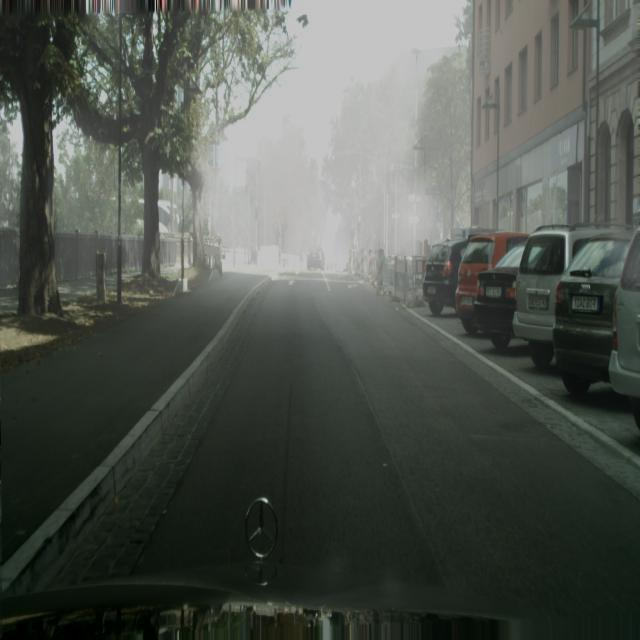bus: (375, 245, 385, 294)
person: (511, 223, 621, 368), (551, 229, 636, 390), (456, 229, 529, 335), (608, 227, 640, 432), (473, 242, 527, 351), (422, 235, 474, 316), (307, 244, 325, 270)
